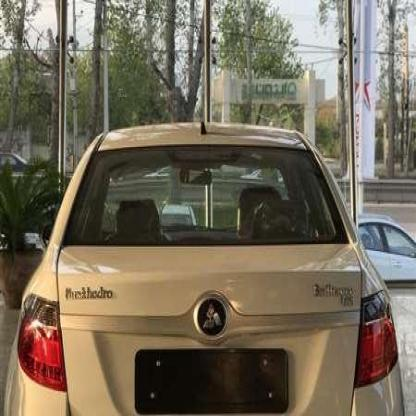Car: (7, 133, 403, 416)
